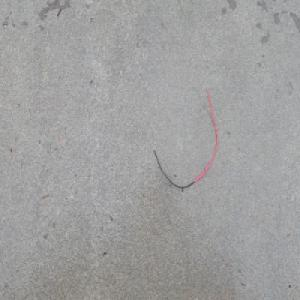Wire: (148, 80, 218, 188)
